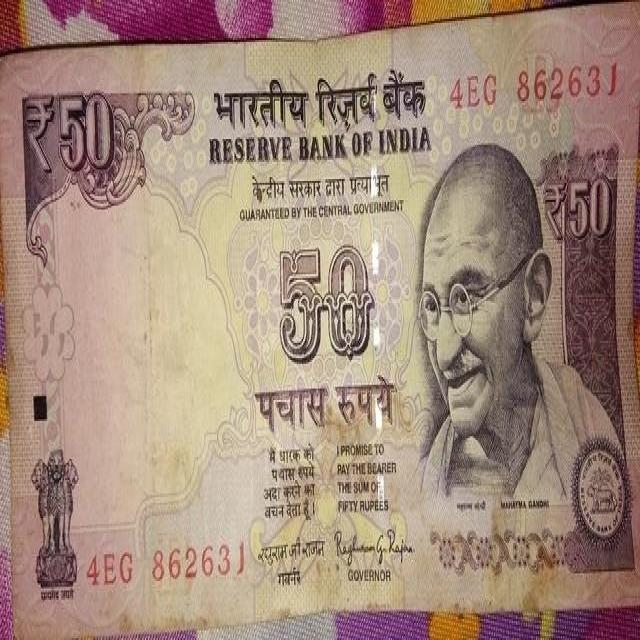50IndianRupees: (0, 48, 640, 602)
